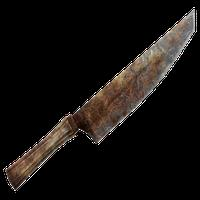knife: (7, 5, 198, 188)
